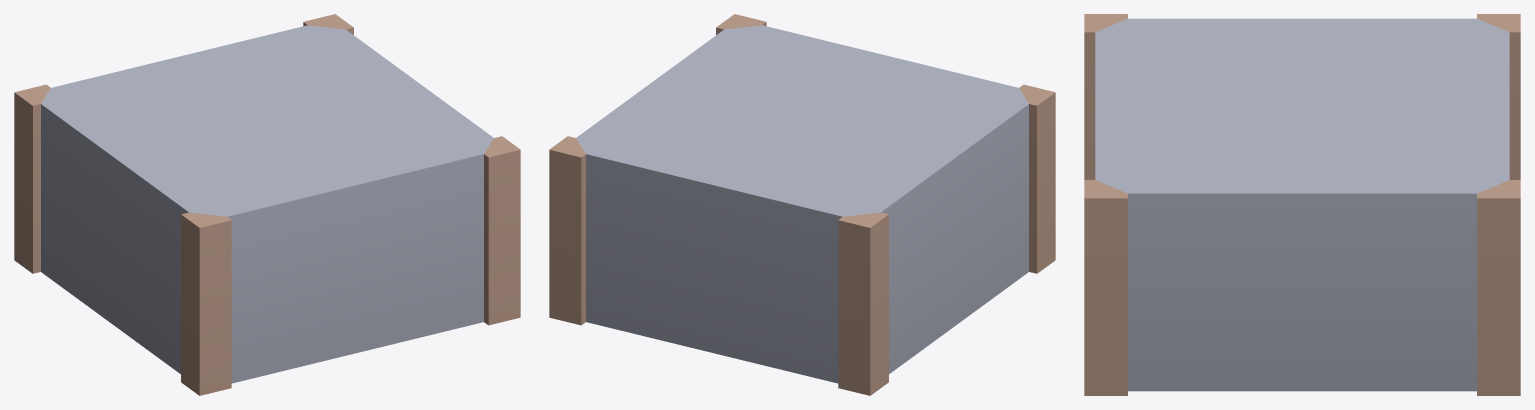
The model's file is wall-block-half.glb.
3 views of the same model, side by side, from view 1: azimuth 30°, elevation 25°; view 2: azimuth 150°, elevation 25°; view 3: azimuth 270°, elevation 25° (orthographic). The views are drawn at different scales.
Visible parts, largest first — view 1: wall-block-half; view 2: wall-block-half; view 3: wall-block-half.
Part boxes in pixels (<box>): wall-block-half: <box>14,14,520,395</box>; wall-block-half: <box>549,14,1055,395</box>; wall-block-half: <box>1084,14,1520,395</box>.
Size of the model in its own units: 1 by 0.5 by 1.
